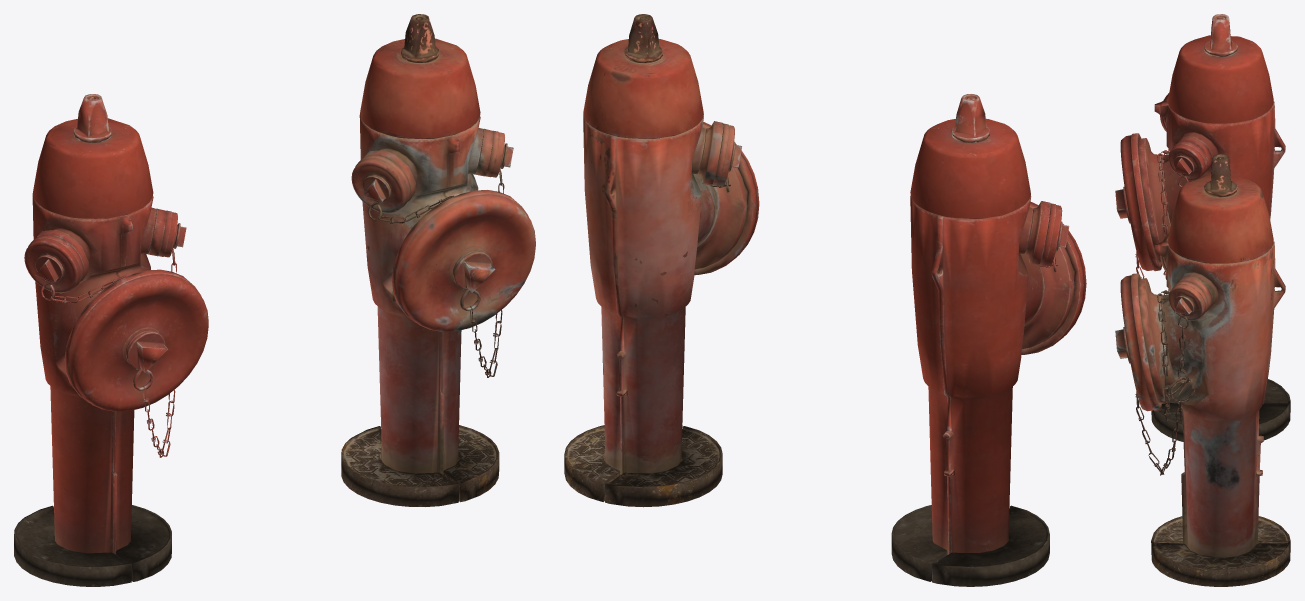
Rendered from fire_hydrant.glb.
3 renders of one model, left to right at view 1: azimuth 30°, elevation 25°; view 2: azimuth 150°, elevation 25°; view 3: azimuth 270°, elevation 25°, orthographic. The views are drawn at different scales.
Visible parts, largest first — view 1: fire_hydrant_aged, fire_hydrant, fire_hydrant_cap_01, fire_hydrant_cap_01_aged, fire_hydrant_cap_03, fire_hydrant_cap_03_aged, fire_hydrant_chain, fire_hydrant_chain_aged, fire_hydrant_cap_02_aged, fire_hydrant_cap_02; view 2: fire_hydrant, fire_hydrant_aged, fire_hydrant_cap_01, fire_hydrant_cap_01_aged, fire_hydrant_cap_03_aged, fire_hydrant_cap_03; view 3: fire_hydrant_aged, fire_hydrant, fire_hydrant_cap_01, fire_hydrant_cap_01_aged, fire_hydrant_chain_aged, fire_hydrant_cap_02_aged, fire_hydrant_cap_02, fire_hydrant_chain.
Part boxes in pixels (x1,y1,x2,y2): fire_hydrant_aged: (341, 14, 499, 506); fire_hydrant: (14, 94, 171, 586); fire_hydrant_cap_01: (64, 269, 208, 411); fire_hydrant_cap_01_aged: (392, 190, 535, 331); fire_hydrant_cap_03: (24, 235, 83, 293); fire_hydrant_cap_03_aged: (351, 155, 410, 213); fire_hydrant_chain: (40, 224, 177, 457); fire_hydrant_chain_aged: (367, 145, 504, 377); fire_hydrant_cap_02_aged: (485, 130, 513, 177); fire_hydrant_cap_02: (158, 210, 186, 257); fire_hydrant: (891, 94, 1074, 586); fire_hydrant_aged: (564, 14, 747, 507); fire_hydrant_cap_01: (1021, 202, 1086, 354); fire_hydrant_cap_01_aged: (694, 122, 759, 275); fire_hydrant_cap_03_aged: (712, 123, 741, 186); fire_hydrant_cap_03: (1039, 203, 1069, 266); fire_hydrant_aged: (1138, 154, 1290, 586); fire_hydrant: (1138, 14, 1290, 441); fire_hydrant_cap_01: (1115, 133, 1161, 271); fire_hydrant_cap_01_aged: (1115, 273, 1161, 411); fire_hydrant_chain_aged: (1135, 289, 1195, 475); fire_hydrant_cap_02_aged: (1168, 281, 1208, 320); fire_hydrant_cap_02: (1168, 141, 1208, 180); fire_hydrant_chain: (1135, 149, 1193, 279).
Bounding box in the file's own units: 0.8746 × 0.7994 × 0.3173.
2 materials, 2 textured.
